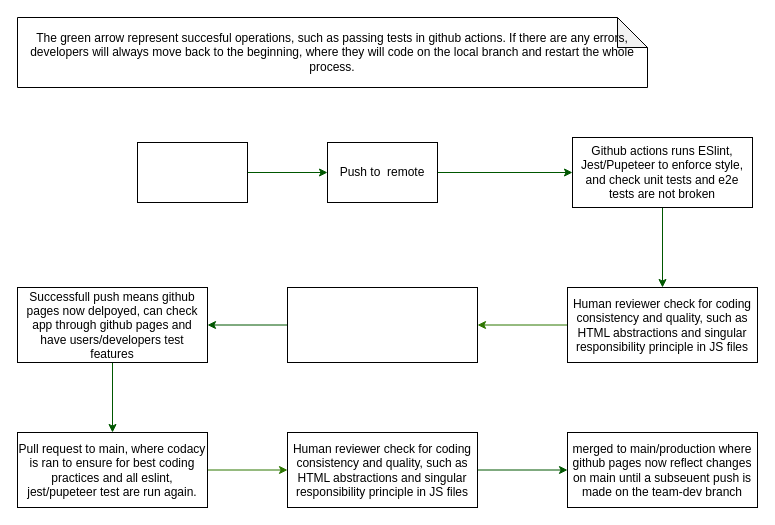
Some shapes in this 775 by 525 pixel diagram are drawn without their labels. The shapes that lost their labels are listed below. From the top down, each one's centre as x and y in pixels, then its label:
At (x=192, y=172): "Code on local branch".
At (x=382, y=324): "git push / merge changes to team-dev branch".
